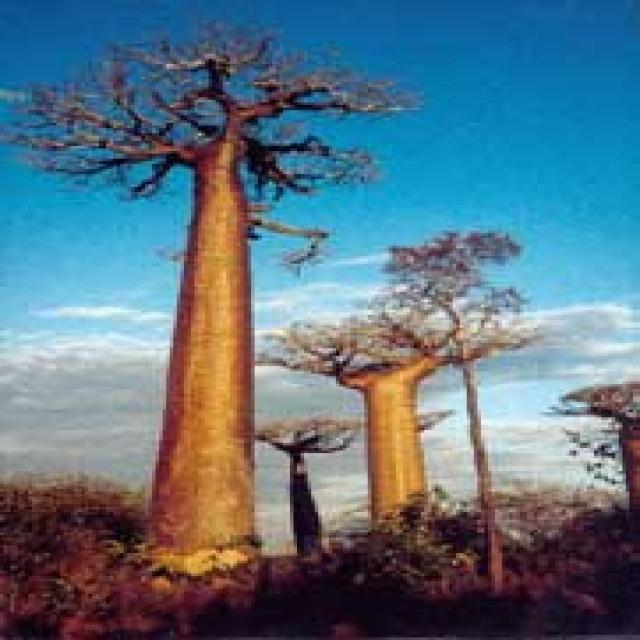baobab: (1, 22, 436, 573), (274, 303, 463, 530), (260, 412, 362, 551), (574, 370, 639, 552)
